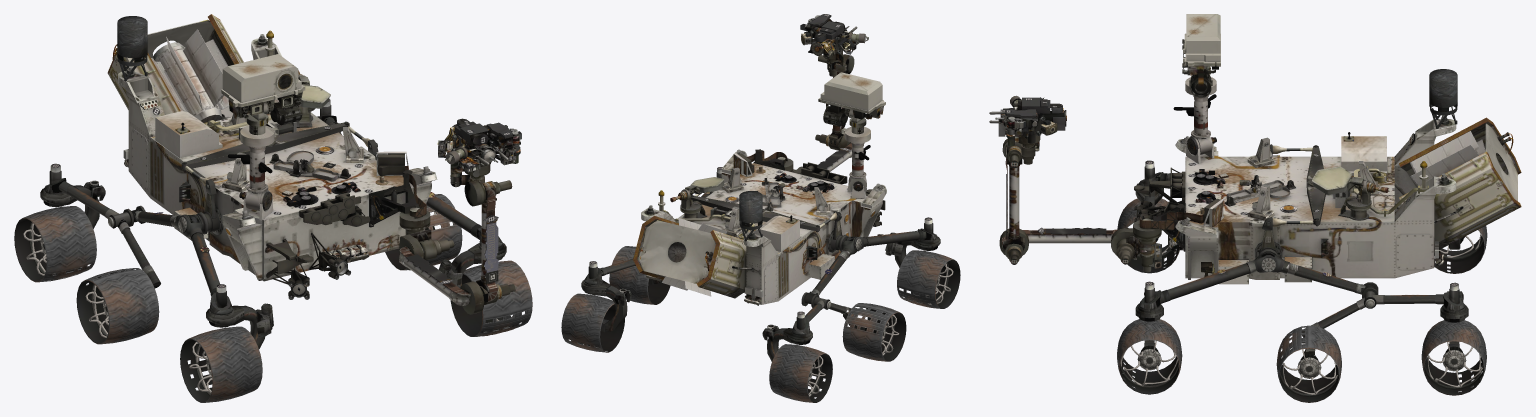
Rendered from rover.glb.
3 renders of one model, left to right at view 1: azimuth 30°, elevation 25°; view 2: azimuth 150°, elevation 25°; view 3: azimuth 270°, elevation 25°, orthographic. The views are drawn at different scales.
Parts seen in each view (by area): view 1: Object_5, Object_4, Object_8, Object_6, Object_10, Object_7, Object_9; view 2: Object_4, Object_5, Object_10, Object_8, Object_6, Object_7, Object_9; view 3: Object_5, Object_8, Object_6, Object_4, Object_10, Object_7, Object_9.
Boxes of the visible parts, x1,y1,x2,y2 form: Object_5: [73, 16, 474, 349]; Object_4: [14, 194, 532, 402]; Object_8: [40, 14, 515, 327]; Object_6: [118, 38, 498, 305]; Object_10: [112, 19, 521, 302]; Object_7: [124, 153, 404, 297]; Object_9: [153, 108, 512, 284]; Object_4: [561, 246, 960, 402]; Object_5: [605, 149, 910, 361]; Object_10: [638, 14, 885, 283]; Object_8: [581, 44, 940, 344]; Object_6: [641, 52, 885, 253]; Object_7: [646, 153, 885, 305]; Object_9: [704, 14, 884, 273]; Object_5: [1138, 69, 1463, 351]; Object_8: [995, 116, 1521, 354]; Object_6: [1003, 119, 1455, 259]; Object_4: [1117, 198, 1487, 402]; Object_10: [989, 14, 1517, 251]; Object_7: [1134, 167, 1444, 267]; Object_9: [1000, 97, 1410, 276].
Size of the model in its own units: 2.78 by 2.22 by 3.94.
9 materials, 8 textured.
